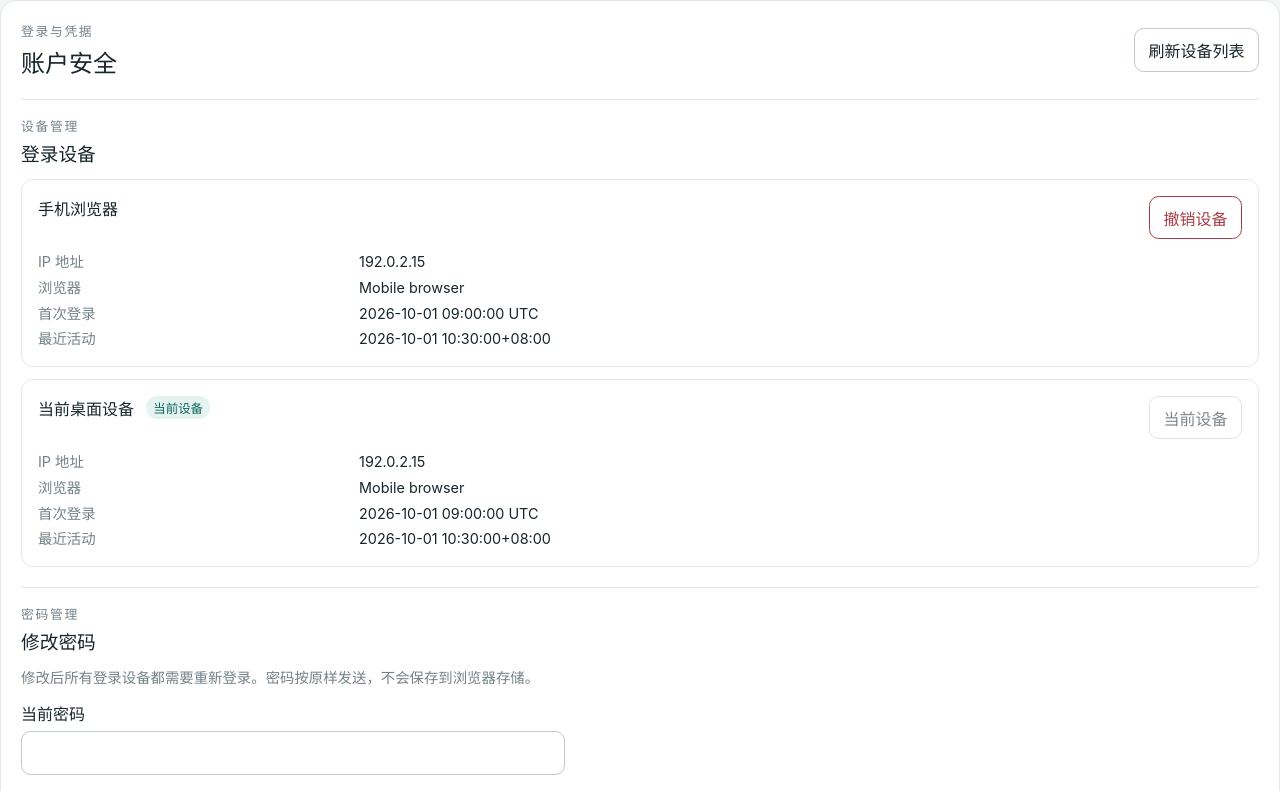
Scenario: AccountSecurityPanel › freezes an unknown revoke, allows only readback, and does not silently retry DELETE
The width and height of the screenshot is (1280, 791).
Expected: the heading "手机浏览器" is shown, left=38, top=196, right=118, bottom=220
Step 1. Click the button with aria-label "撤销设备「手机浏览器」" → (1195, 218), box left=1149, top=196, right=1242, bottom=239
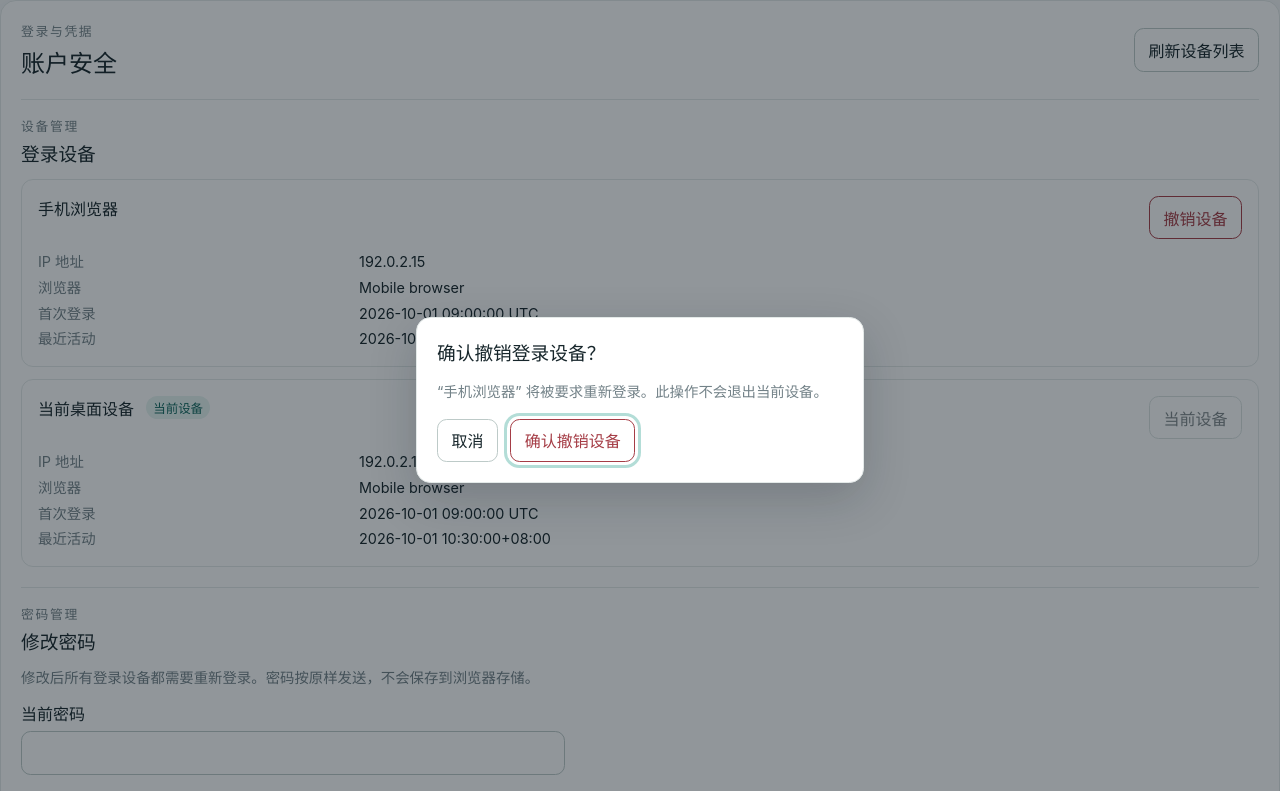
Step 2. Click the button "确认撤销设备" → (573, 440), box left=510, top=418, right=635, bottom=462
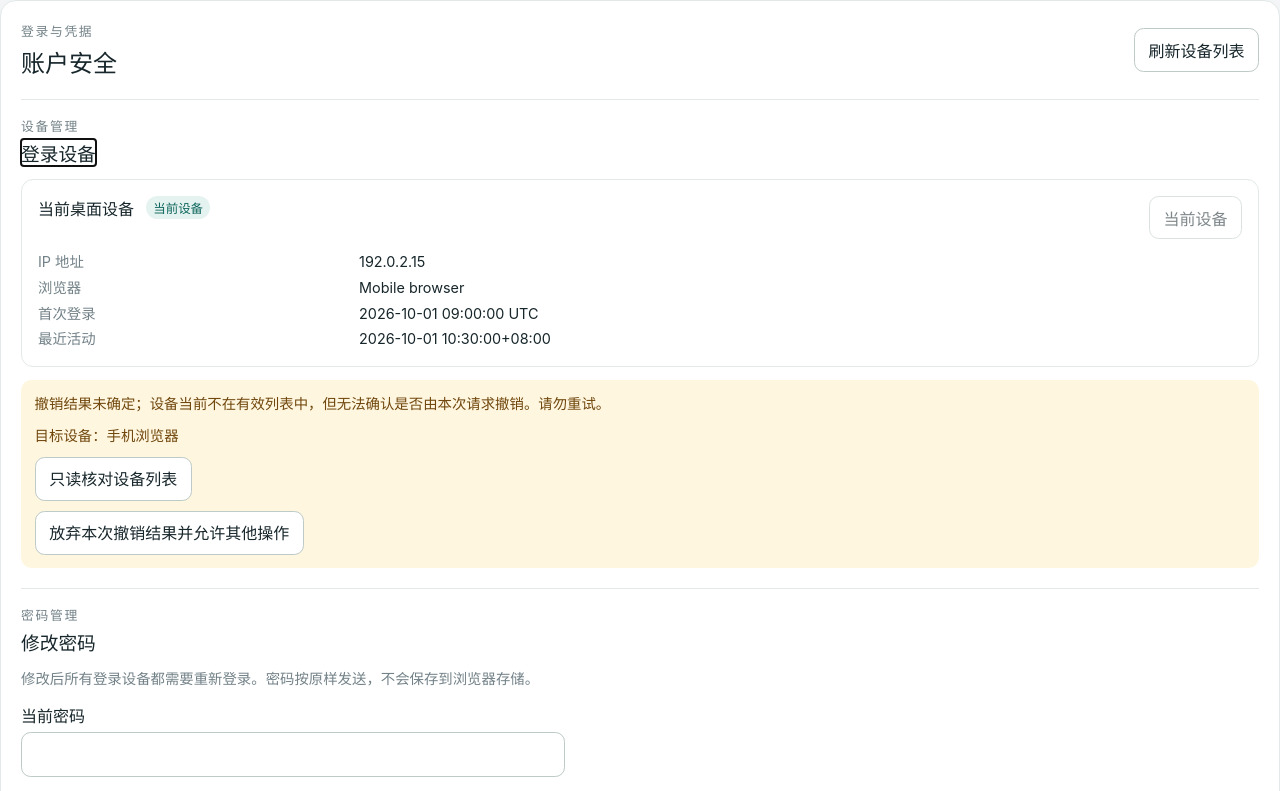
Expected: the text "撤销结果未确定；设备当前不在有效列表中，但无法确认是否由本次请求撤销。请勿重试。" is shown, left=35, top=393, right=610, bottom=415
Expected: the button "撤销设备「手机浏览器」" is gone
Expected: the button "只读核对设备列表" is enabled
Step 3. Click the button "只读核对设备列表" → (113, 479), box left=35, top=457, right=192, bottom=501
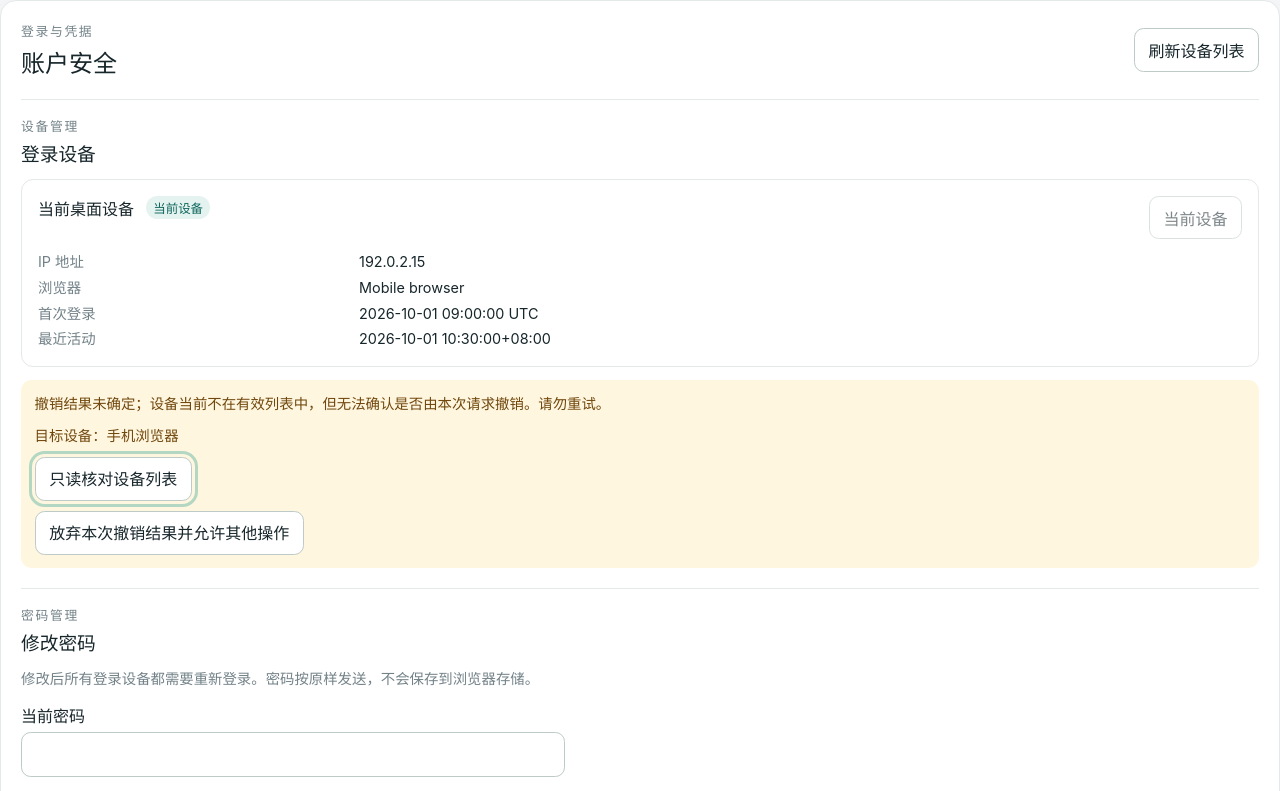
Expected: the message shows "撤销结果未确定", left=35, top=395, right=610, bottom=412
Step 4. Click the button "放弃本次撤销结果并允许其他操作" → (169, 533), box left=35, top=511, right=304, bottom=555
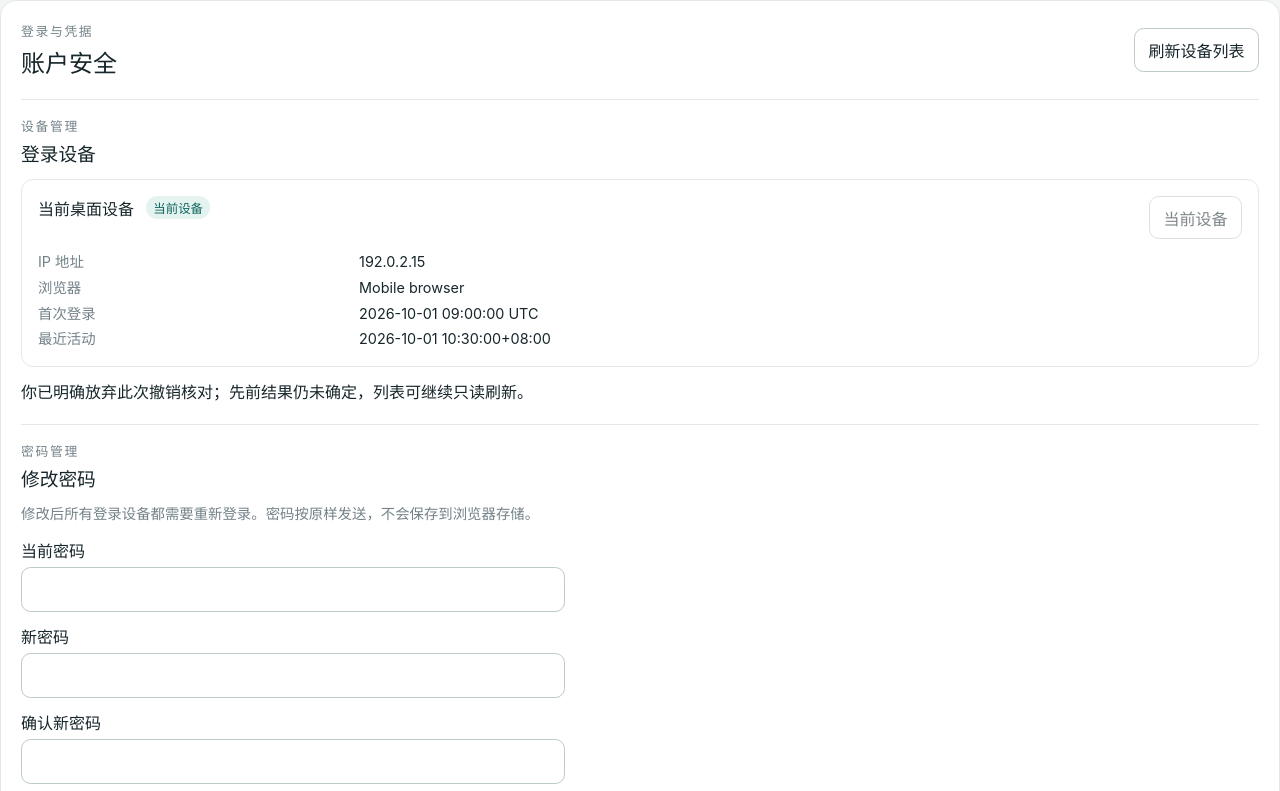
Expected: the text "你已明确放弃此次撤销核对；先前结果仍未确定，列表可继续只读刷新。" is shown, left=21, top=382, right=533, bottom=402
